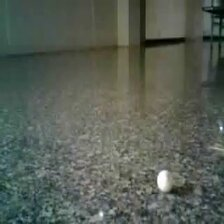w: (156, 169, 174, 193)
